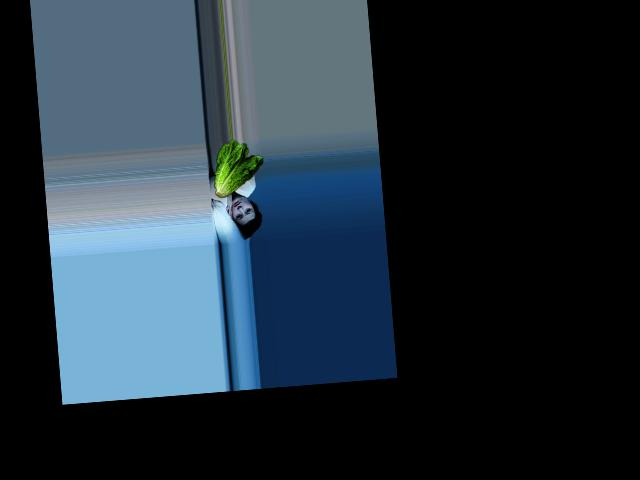lettuce: (206, 136, 265, 197)
